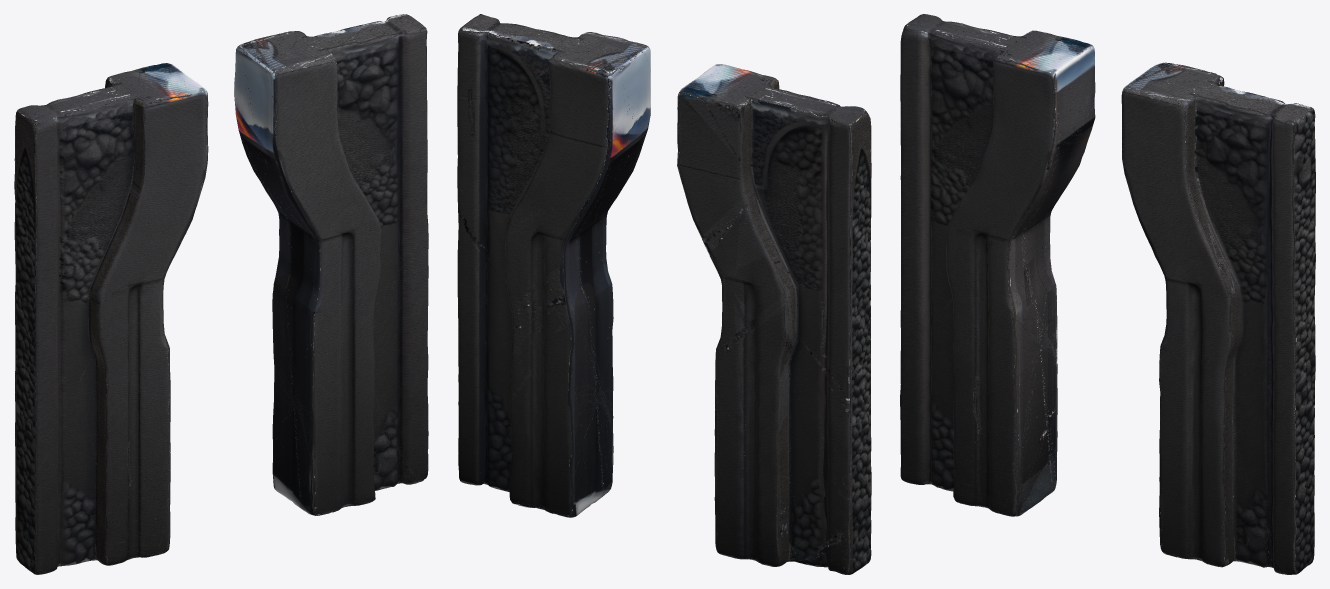
3 views of the same model, side by side, from view 1: azimuth 30°, elevation 25°; view 2: azimuth 150°, elevation 25°; view 3: azimuth 330°, elevation 25° (orthographic).
Visible parts, largest first — view 1: Gate-LP; view 2: Gate-LP; view 3: Gate-LP.
Part boxes in pixels (x1,y1,x2,y2): Gate-LP: (14, 14, 428, 574); Gate-LP: (457, 14, 871, 574); Gate-LP: (900, 14, 1315, 574).
Bounding box in the file's own units: 1.63 × 1.8 × 0.3027.
1 material, 1 textured.
